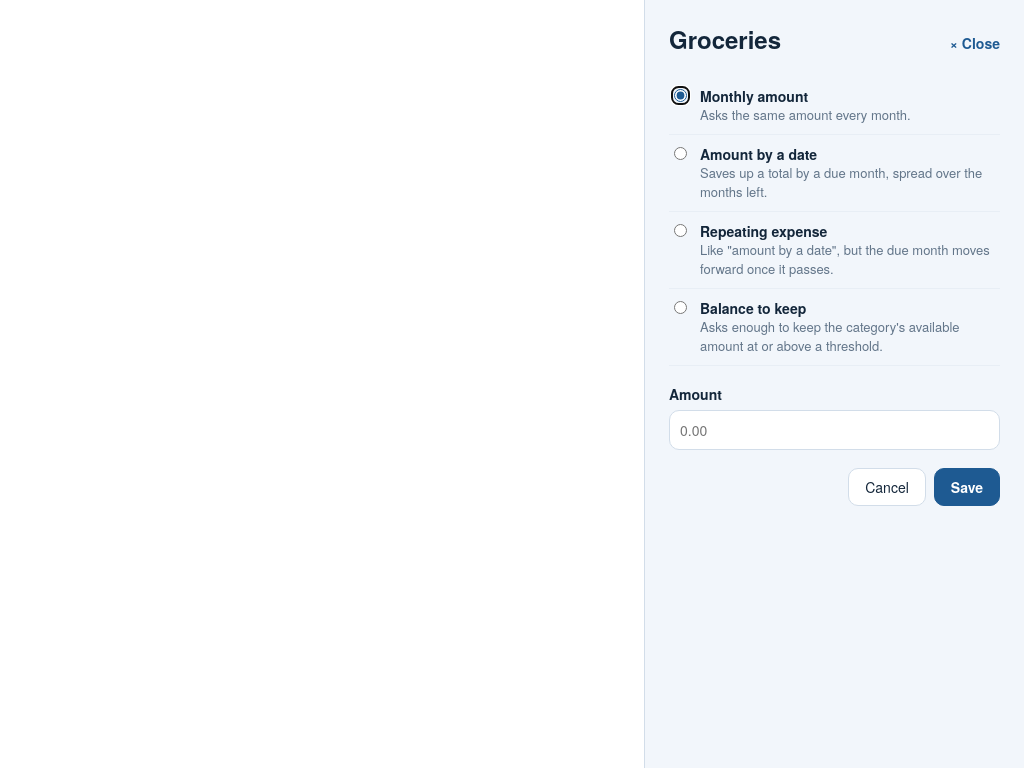
Test: TargetEditor (#55) › shows the due month and interval fields only for the kinds that need them
The width and height of the screenshot is (1024, 768).
Click the radio button labelled "Amount by a date". click: (680, 153)
box: [674,147,687,160]
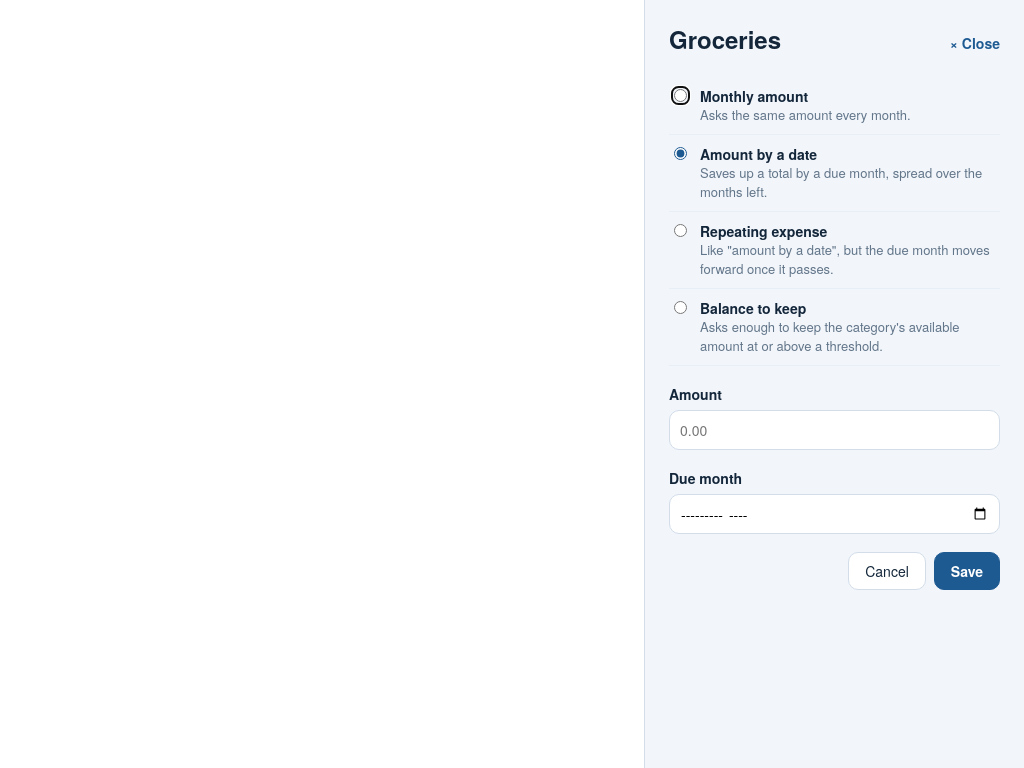
Expected: the field labelled "Repeat interval" is not shown
Expected: the field labelled "Due month" is shown, [669,494,1000,534]
Click the radio button labelled "Repeating expense". click: (680, 230)
box: [674,224,687,237]
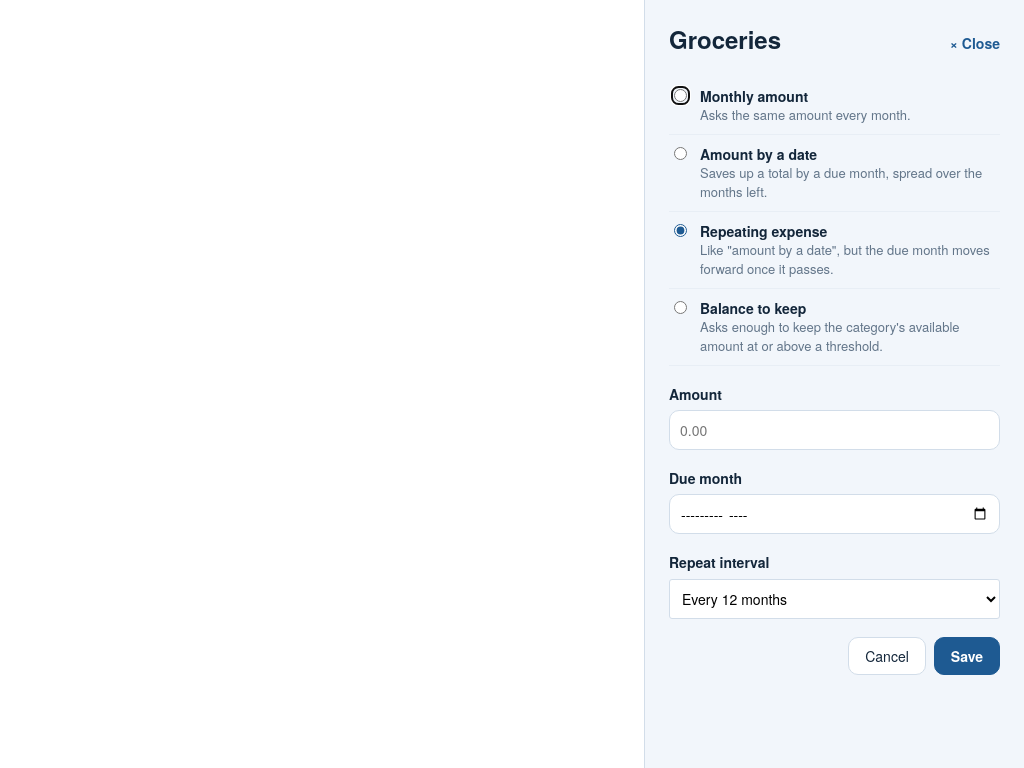
Expected: the field labelled "Due month" is shown, [669,494,1000,534]
Expected: the dropdown labelled "Repeat interval" is shown, [669,579,1000,619]
